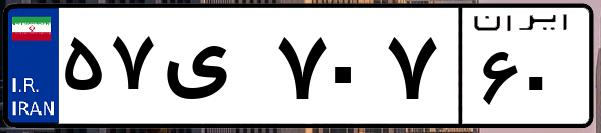0: (330, 28, 385, 110), (525, 38, 570, 115)
5: (57, 26, 110, 100)
6: (475, 38, 525, 113)
7: (270, 28, 330, 110), (385, 28, 445, 110), (110, 28, 158, 98)
ی: (158, 20, 270, 120)
